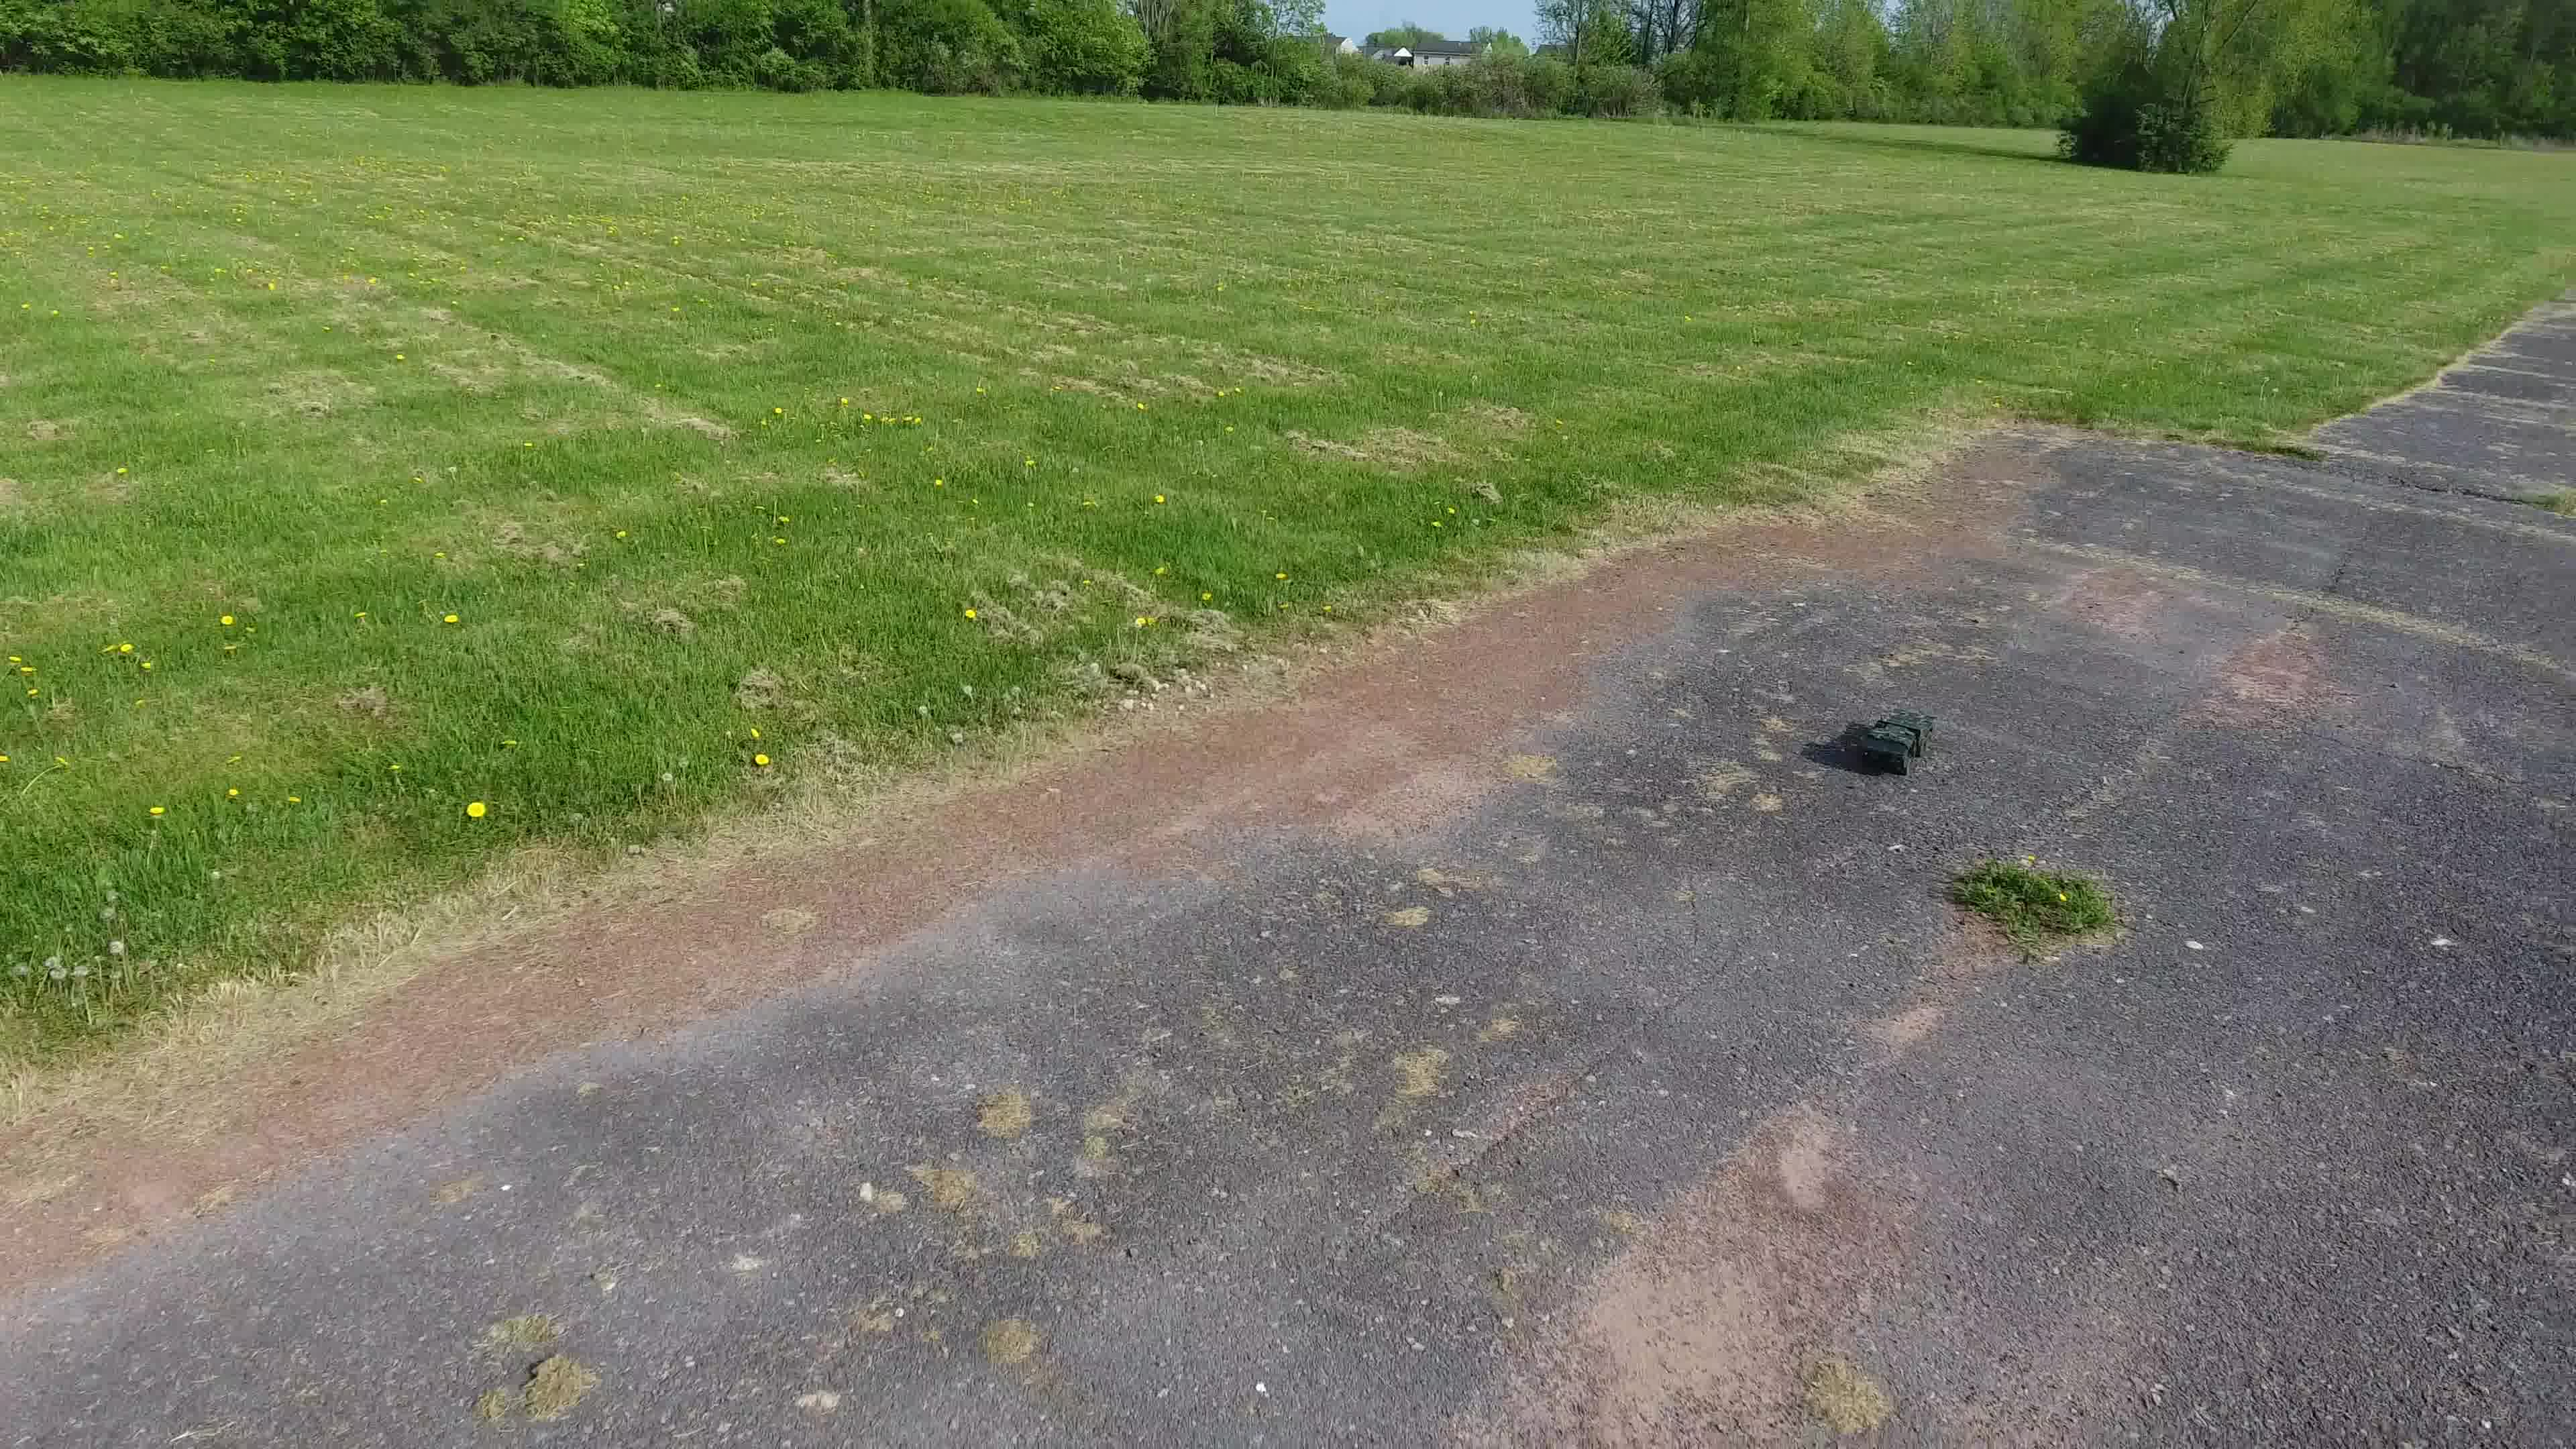transporter9_camo: (1854, 709, 1939, 777)
